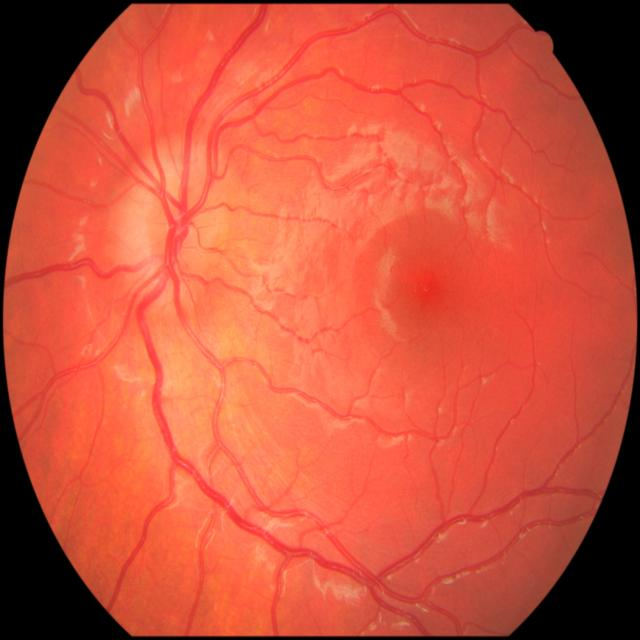OD: (123, 154, 224, 299)
